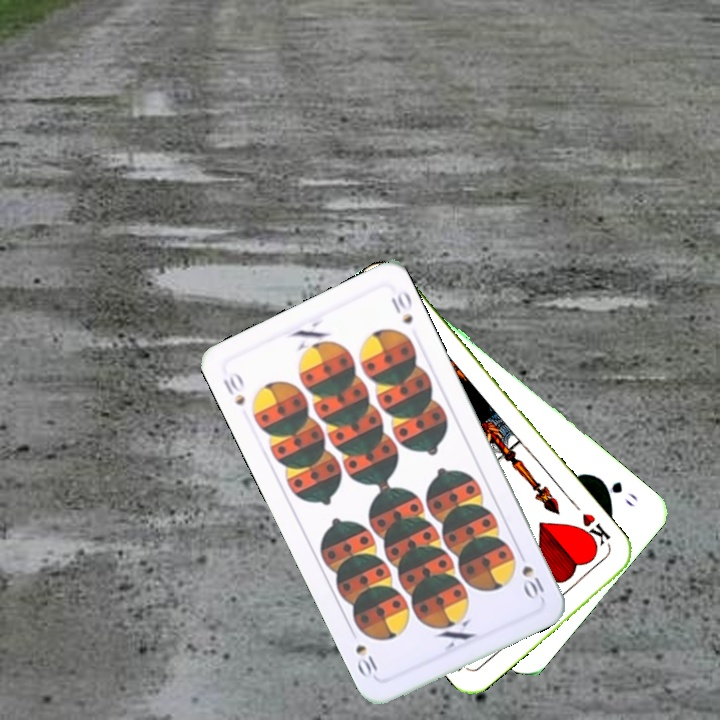GO: (592, 473, 641, 510)
HK: (573, 509, 613, 553)
S10: (518, 561, 547, 602), (219, 368, 248, 409)
